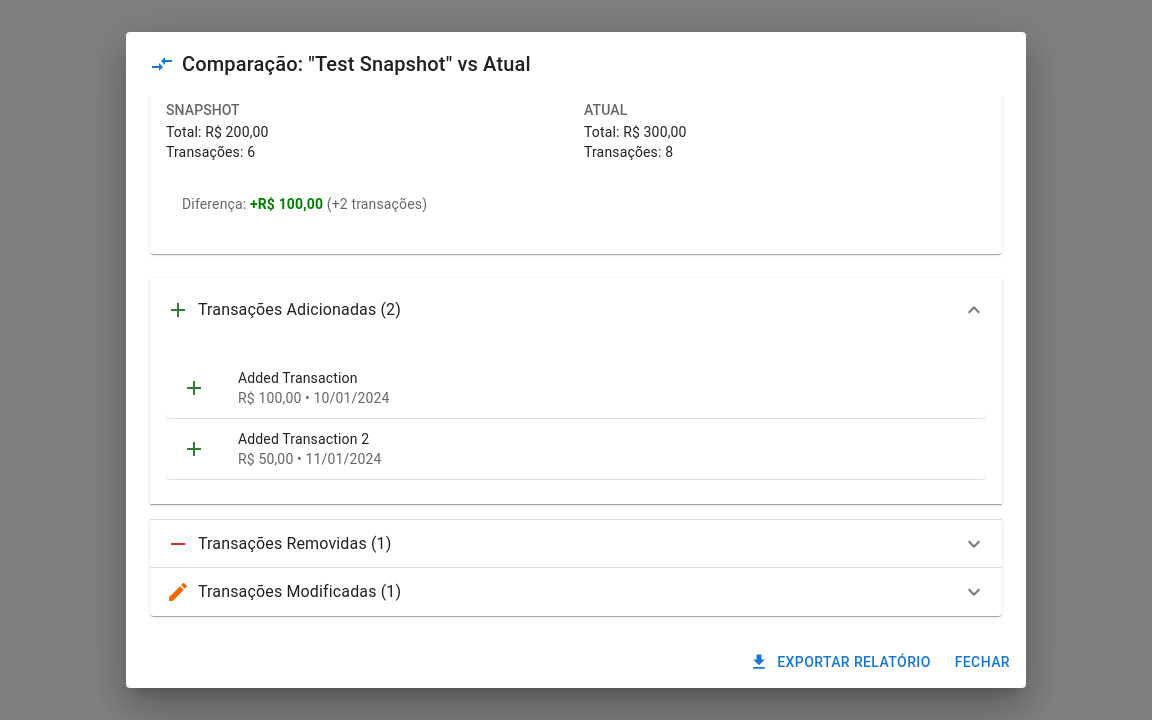
it: SnapshotComparison › Accordion Behavior › clicking accordion toggles expansion
The image size is (1152, 720).
(page scrolled)
expect the text "Added Transaction" is shown: met, box [238,370,358,386]
# Click on removed section
Click the button "Transações Removidas (1)" at x=287, y=544, box [150,520,1002,568]
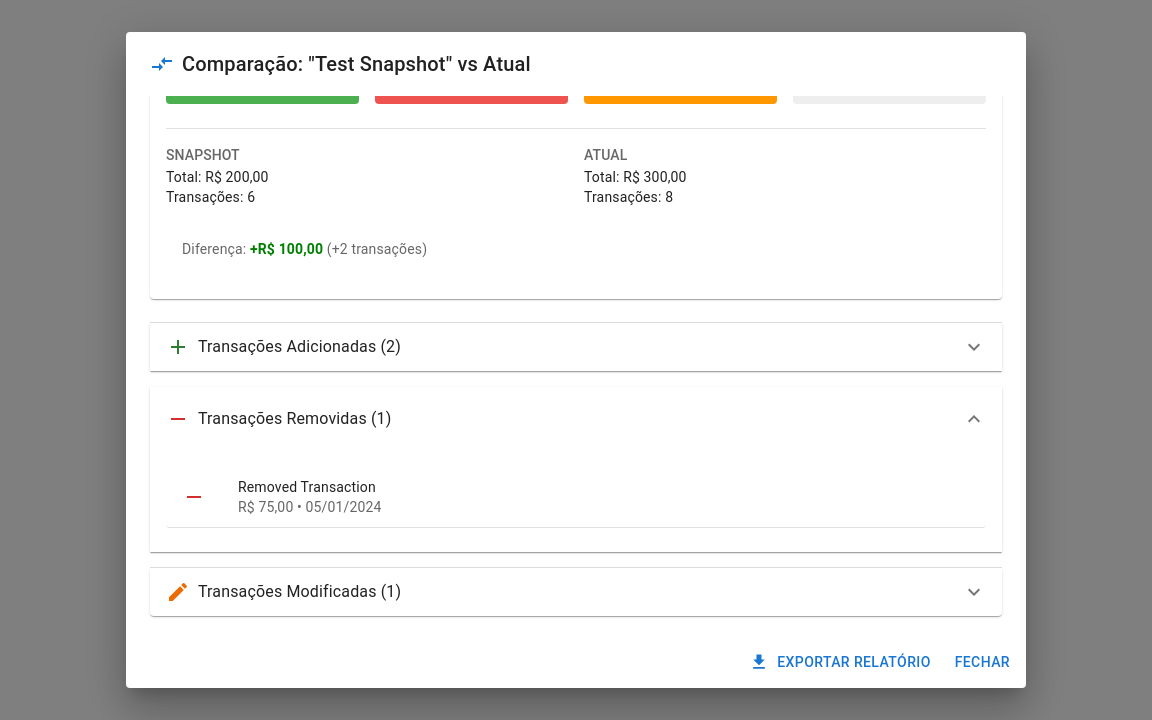
expect the text "Removed Transaction" is shown: met, box [238,479,376,495]
